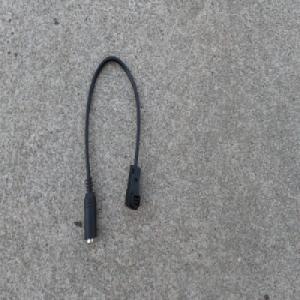Wire: (81, 53, 140, 246)
